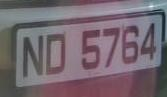4: (140, 20, 158, 63)
5: (76, 26, 104, 76)
6: (120, 20, 142, 67)
7: (100, 22, 122, 71)
D: (44, 30, 70, 79)
N: (21, 29, 44, 85)
